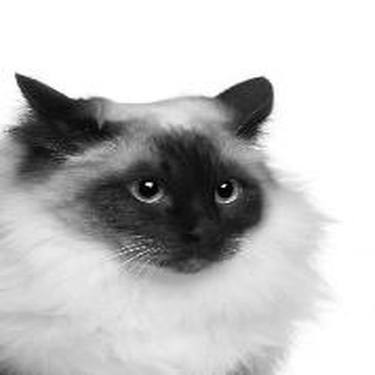cat: (5, 73, 317, 370)
